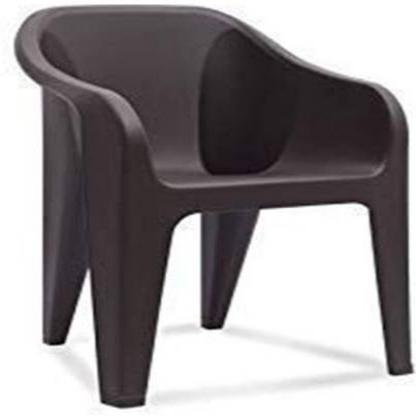chair: (6, 5, 415, 415)
